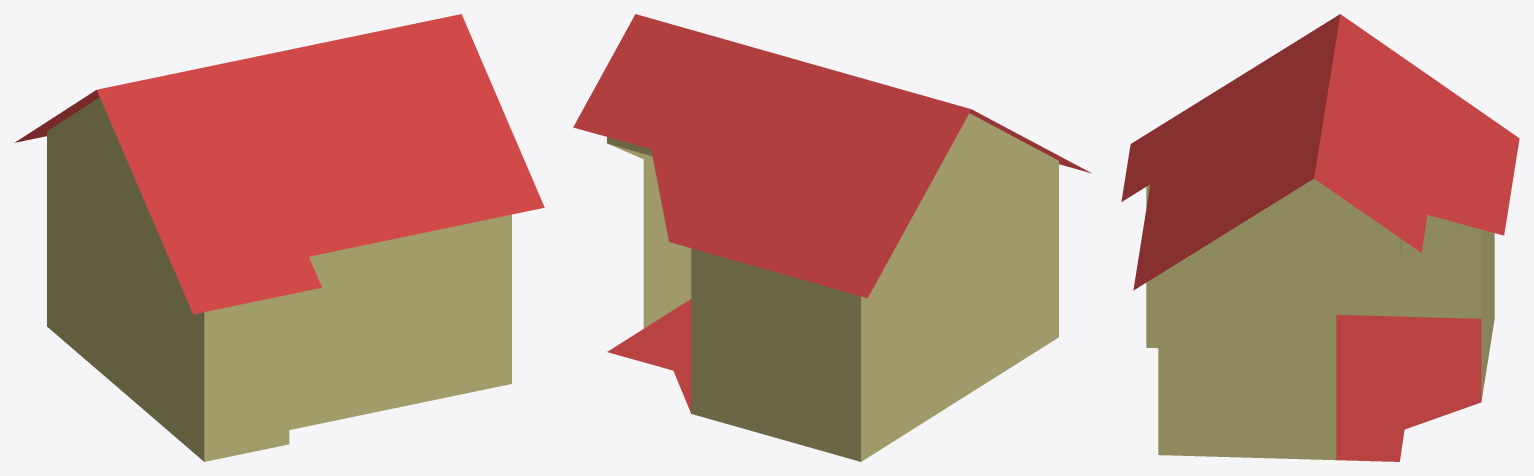
The picture shows the model from 3 angles, left to right: view 1: azimuth 30°, elevation 25°; view 2: azimuth 150°, elevation 25°; view 3: azimuth 270°, elevation 25°; orthographic projection. The views are drawn at different scales.
Size of the model in its own units: 13.12 by 12.72 by 10.25.
